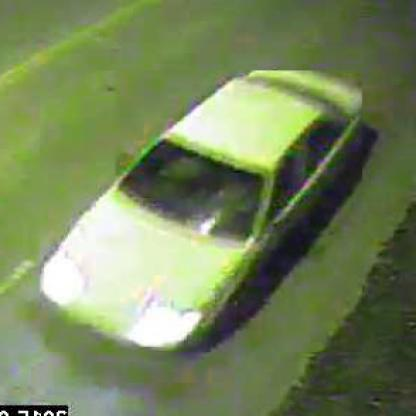car: (39, 72, 363, 355)
